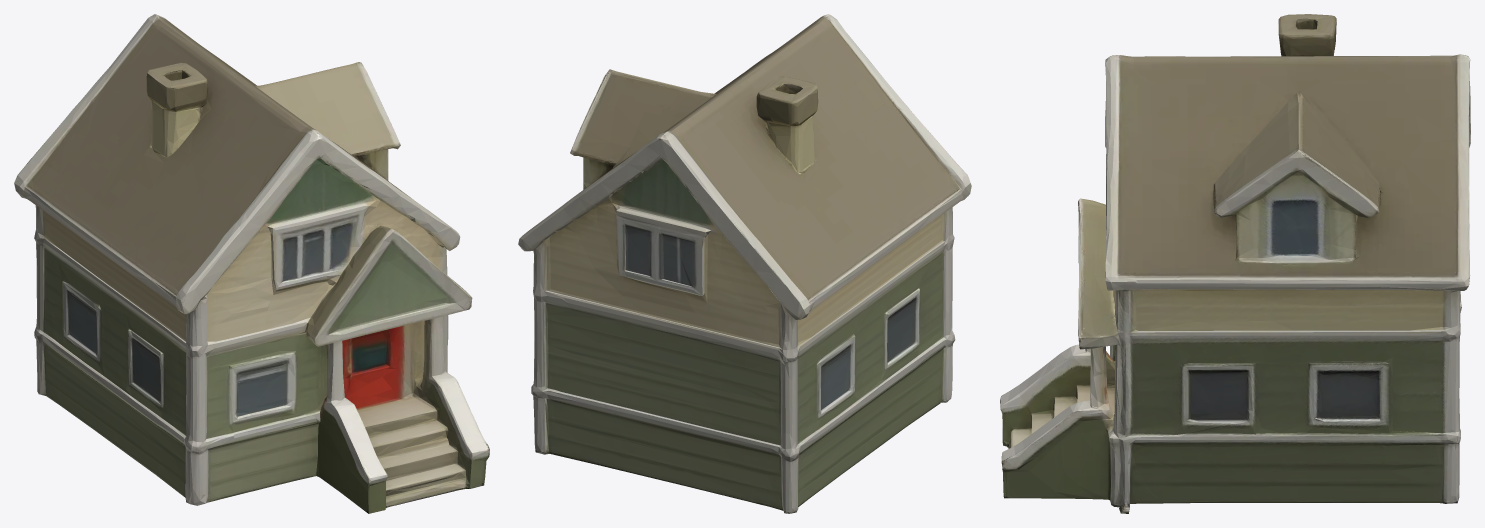
The model's file is house_westend.glb.
3 renders of one model, left to right at view 1: azimuth 30°, elevation 25°; view 2: azimuth 150°, elevation 25°; view 3: azimuth 270°, elevation 25°, orthographic. The views are drawn at different scales.
Parts seen in each view (by area): view 1: geometry_0; view 2: geometry_0; view 3: geometry_0.
Part boxes in pixels (<box>): geometry_0: <box>14,14,489,513</box>; geometry_0: <box>518,14,971,513</box>; geometry_0: <box>1000,14,1470,513</box>.
Bounding box in the file's own units: 0.3691 × 0.4324 × 0.4792.
Materials: 1 (1 with a texture image).
